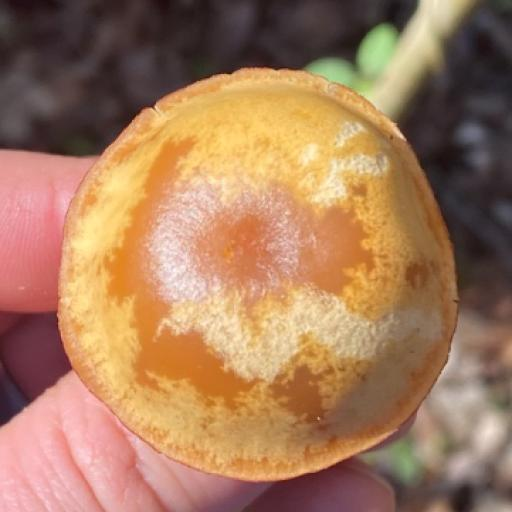mushroom: (50, 61, 462, 490)
